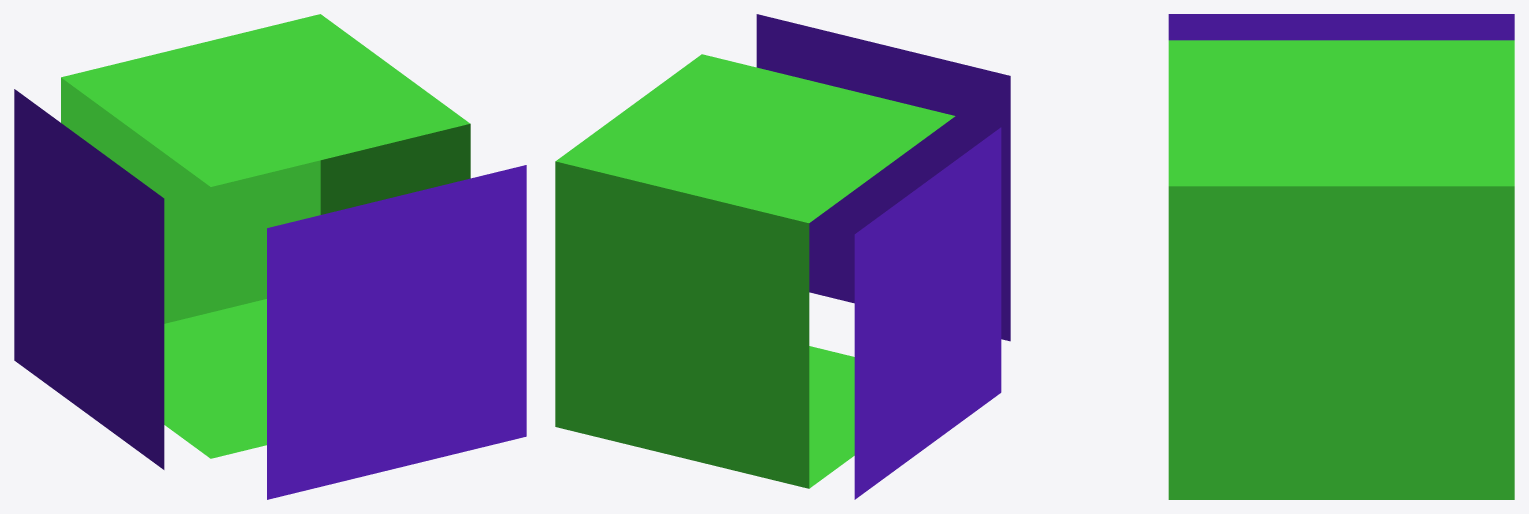
File: m-selection-y-up.glb
The picture shows the model from 3 angles, left to right: view 1: azimuth 30°, elevation 25°; view 2: azimuth 150°, elevation 25°; view 3: azimuth 270°, elevation 25°; orthographic projection. The views are drawn at different scales.
Visible parts, largest first — view 1: Cube, Front_Face, Left_Face; view 2: Cube, Left_Face, Front_Face; view 3: Cube, Left_Face.
Boxes of the visible parts, x1,y1,x2,y2 form: Cube: (61, 14, 470, 458); Front_Face: (267, 165, 526, 499); Left_Face: (14, 89, 164, 469); Cube: (555, 54, 955, 488); Left_Face: (854, 127, 1001, 499); Front_Face: (756, 14, 1010, 341); Cube: (1168, 40, 1514, 499); Left_Face: (1168, 14, 1514, 40).
Size of the model in its own units: 2.36 by 2 by 2.75.
